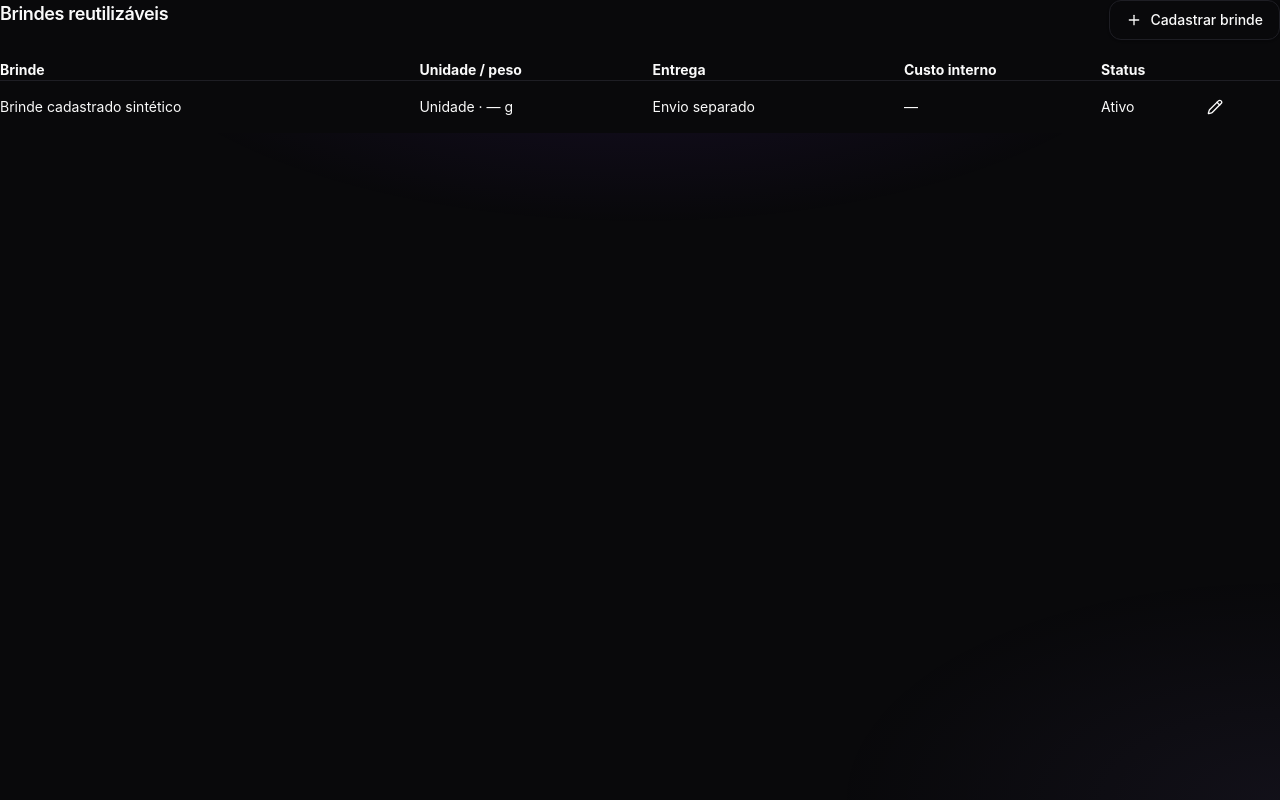
interface de envio separado › cadastro reutilizável tem opção explícita e compatível com registros antigos
Expected: the text "Envio separado" is shown, x1=653 y1=80 x2=904 y2=133
Step 1. Click the button named "Editar brinde Brinde cadastrado sintético" → (1215, 107), box x1=1195 y1=87 x2=1235 y2=127
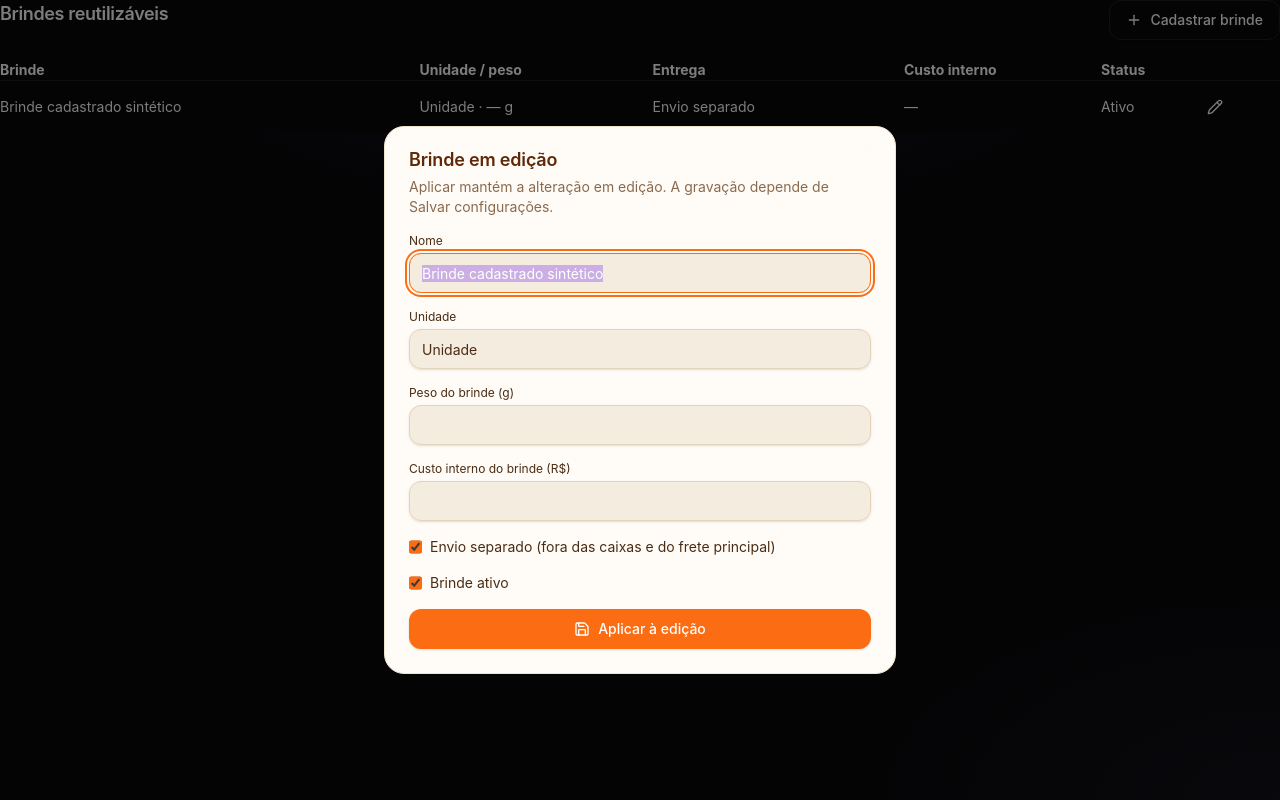
Result: the checkbox labelled "Envio separado (fora das caixas e do frete principal)" is checked at x1=409 y1=537 x2=422 y2=557
